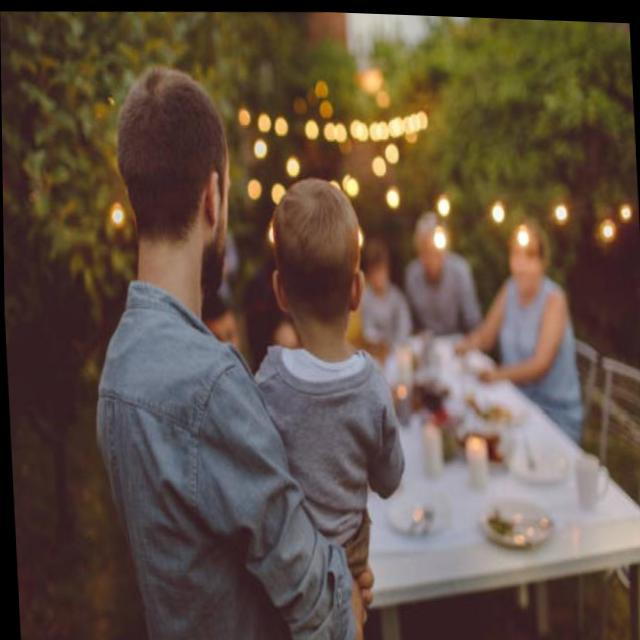no helmet: (90, 55, 239, 315), (266, 171, 372, 371)
